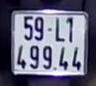1: (66, 17, 75, 46)
4: (16, 45, 28, 70), (57, 46, 69, 71), (71, 47, 82, 73)
5: (22, 14, 34, 41)
9: (34, 15, 46, 42), (28, 43, 40, 70), (42, 44, 54, 71)
L: (53, 16, 66, 43)
